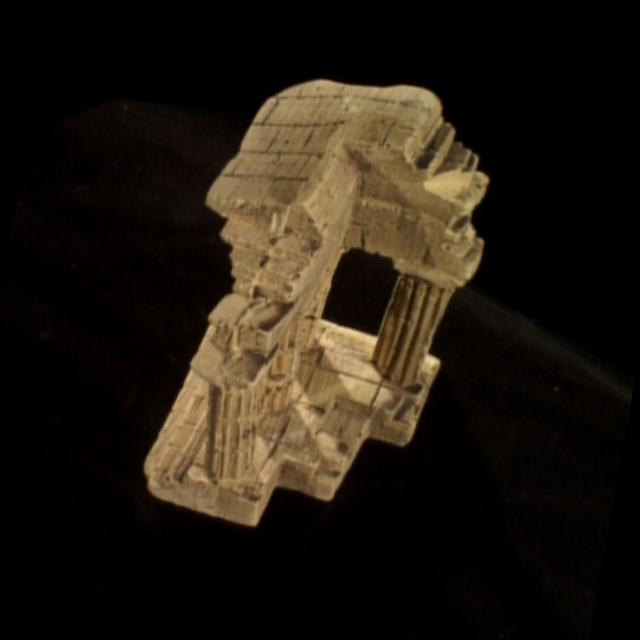Instance-Segmentation: (145, 80, 487, 524)
